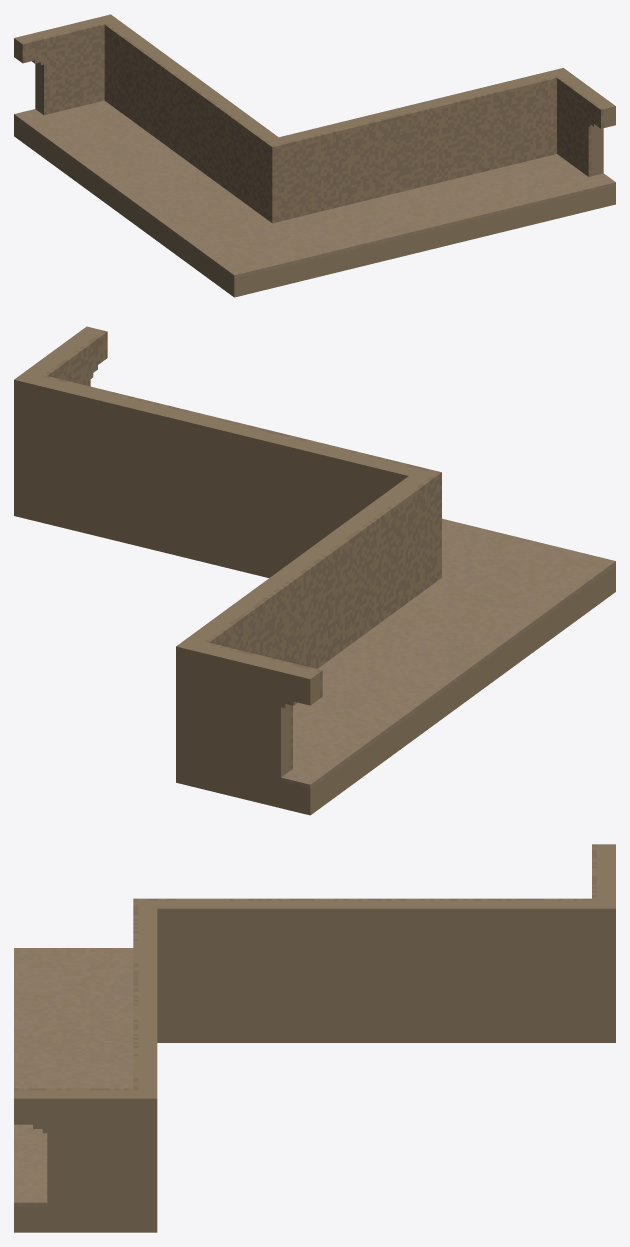
Rendered from CrossRoom-3.obj.
The picture shows the model from 3 angles, top to bottom: view 1: azimuth 30°, elevation 25°; view 2: azimuth 150°, elevation 25°; view 3: azimuth 270°, elevation 25°; orthographic projection. The views are drawn at different scales.
Size of the model in its own units: 12.6 by 3.1 by 12.6.
1 material, 1 textured.
